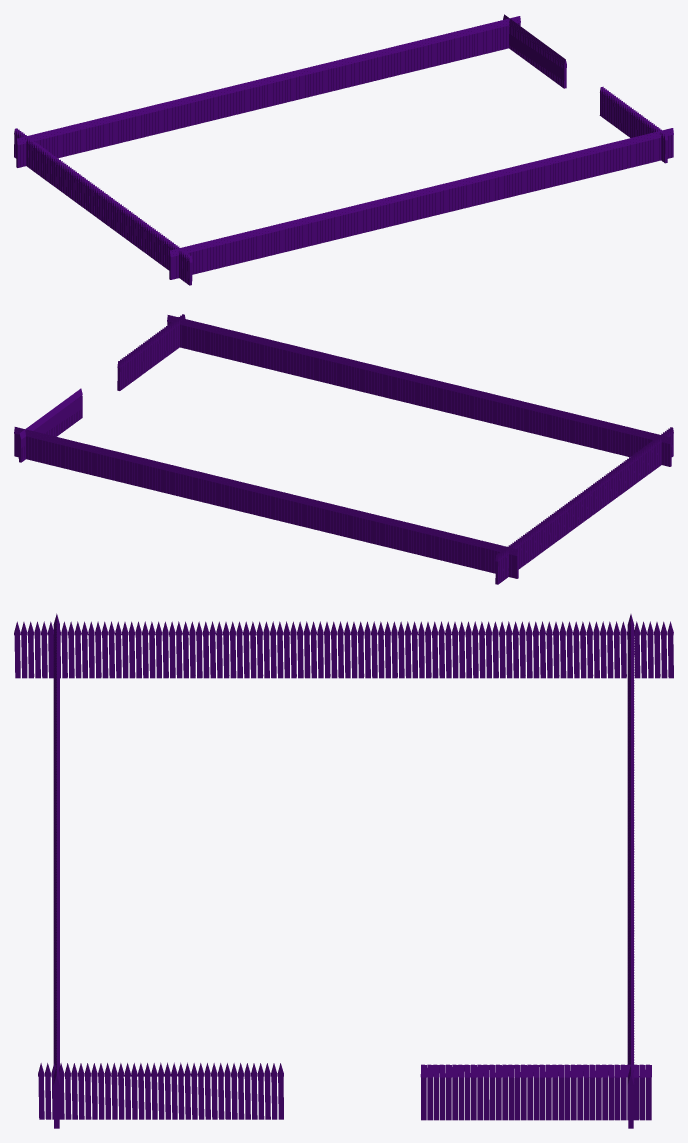
Rendered from fence5.fbx.
3 renders of one model, top to bottom at view 1: azimuth 30°, elevation 25°; view 2: azimuth 150°, elevation 25°; view 3: azimuth 270°, elevation 25°, orthographic. The views are drawn at different scales.
Parts seen in each view (by area): view 1: fence_right, fence_left, fence_back, fence_forward_left, fence_forward_right; view 2: fence_left, fence_right, fence_back, fence_forward_right, fence_forward_left; view 3: fence_back, fence_forward_left, fence_forward_right, fence_left, fence_right.
Part boxes in pixels (box(x1,y1,x2,y2)): fence_right: box(169, 128, 673, 279); fence_left: box(16, 16, 520, 167); fence_back: box(14, 128, 192, 285); fence_forward_left: box(503, 14, 566, 88); fence_forward_right: box(599, 86, 667, 163); fence_left: box(14, 427, 518, 578); fence_right: box(167, 315, 671, 466); fence_back: box(495, 427, 673, 584); fence_forward_right: box(117, 314, 185, 390); fence_forward_left: box(18, 388, 82, 462); fence_back: box(14, 621, 673, 678); fence_forward_left: box(420, 1064, 651, 1120); fence_forward_right: box(38, 1062, 283, 1119); fence_left: box(627, 614, 634, 1128); fence_right: box(53, 613, 59, 1128).
Bounding box in the file's own units: 33497 × 1857 × 20265.
